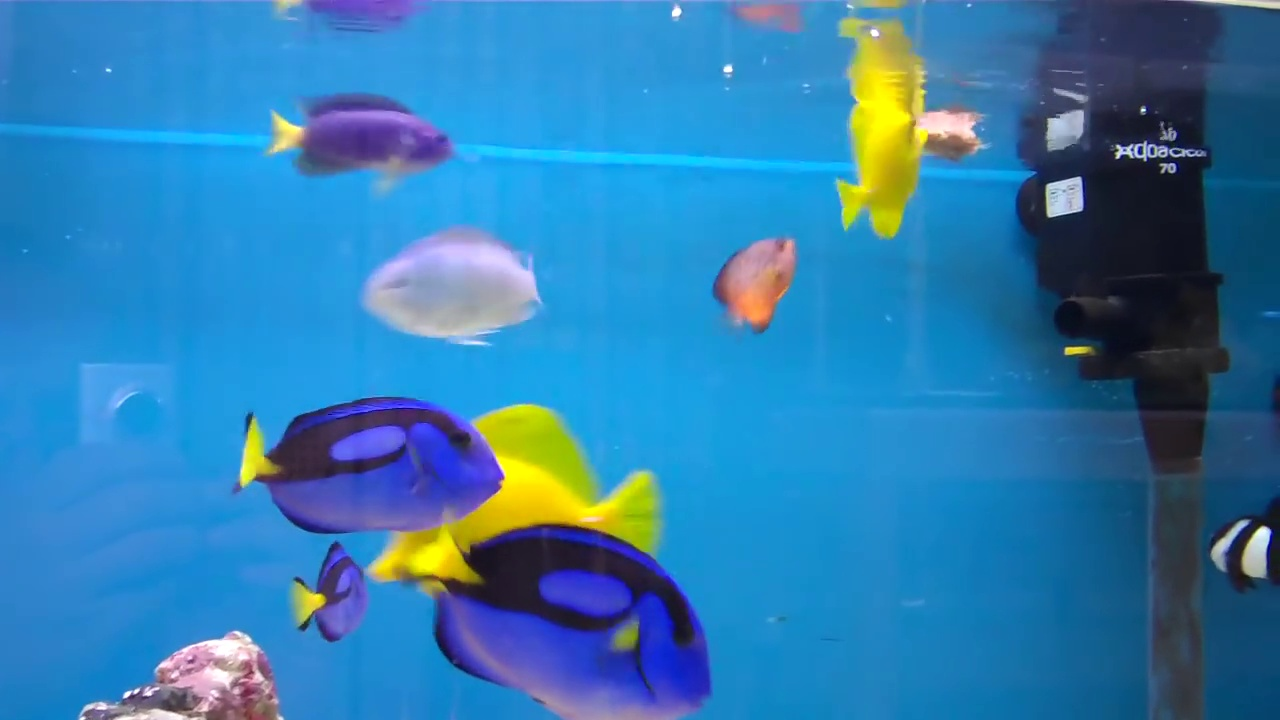blue tang surgeonfish: (416, 530, 713, 714), (224, 388, 501, 542), (281, 551, 387, 650)
saddle butterfly fish: (831, 100, 933, 242)
